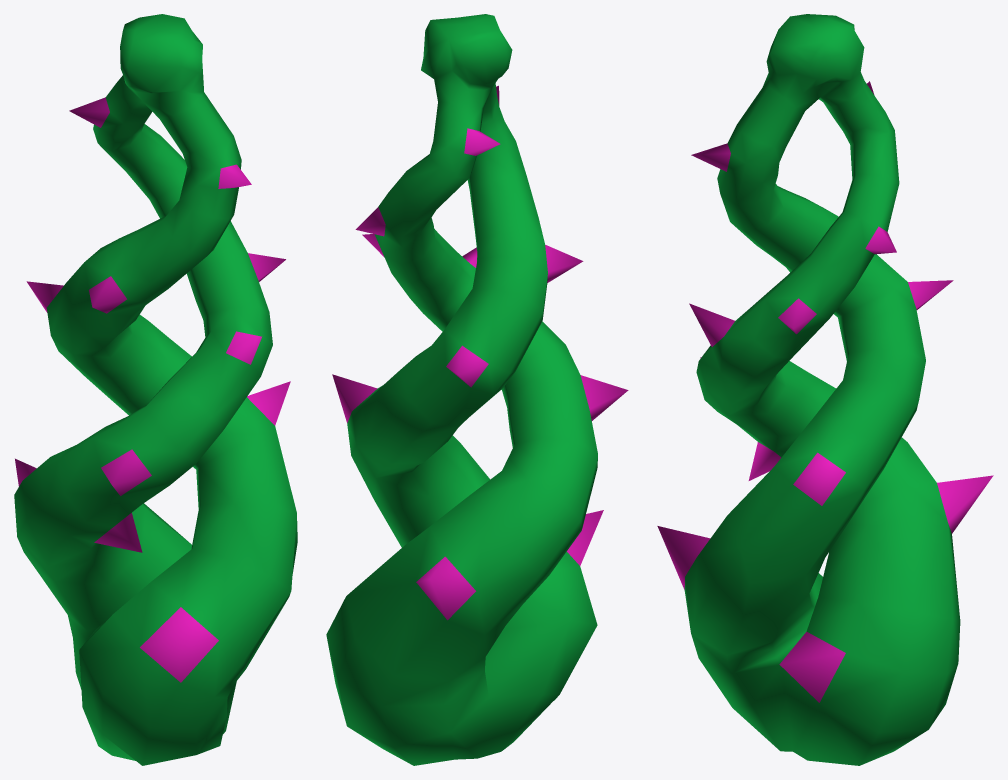
File: revolving_middle.fbx
The picture shows the model from 3 angles, left to right: view 1: azimuth 30°, elevation 25°; view 2: azimuth 150°, elevation 25°; view 3: azimuth 270°, elevation 25°; orthographic projection.
Parts seen in each view (by area): view 1: Plane.001; view 2: Plane.001; view 3: Plane.001.
Boxes of the visible parts, <box> form: Plane.001: <box>14,14,297,765</box>; Plane.001: <box>326,14,628,765</box>; Plane.001: <box>657,14,993,765</box>.
Size of the model in its own units: 43.44 by 116 by 49.8.
